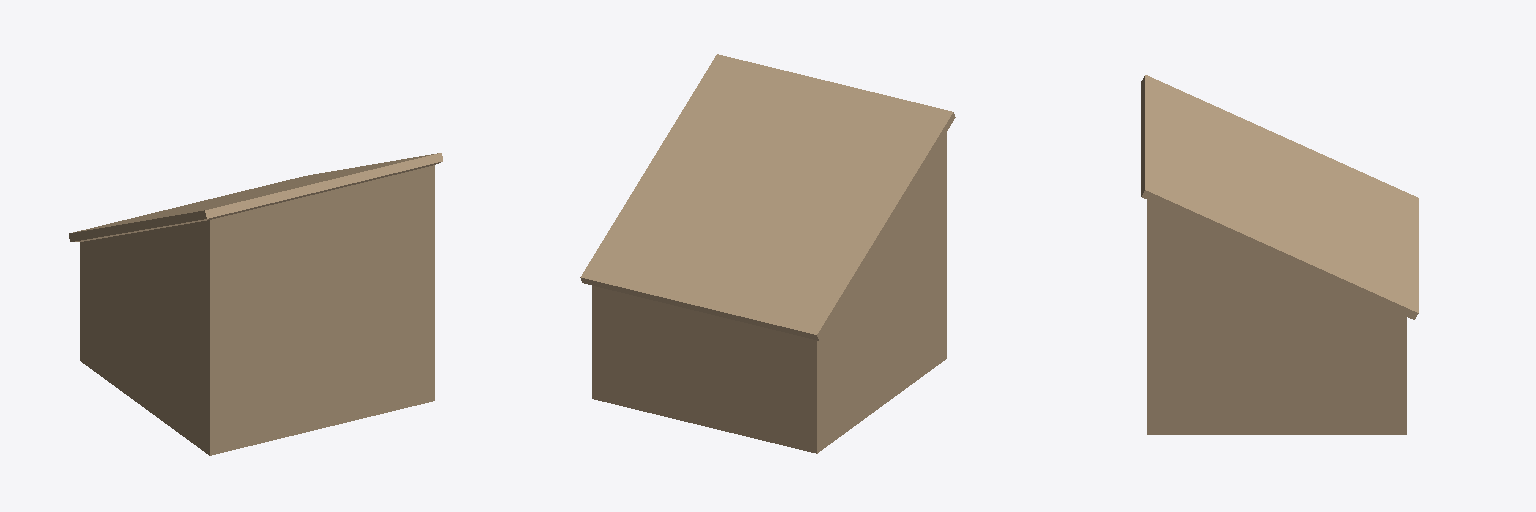
File: buildingO1.obj
3 views of the same model, side by side, from view 1: azimuth 30°, elevation 25°; view 2: azimuth 150°, elevation 25°; view 3: azimuth 270°, elevation 25° (orthographic).
Parts seen in each view (by area): view 1: Cube.012_Cube.007; view 2: Cube.012_Cube.007; view 3: Cube.012_Cube.007.
Boxes of the visible parts, <box> form: Cube.012_Cube.007: <box>69,153,442,455</box>; Cube.012_Cube.007: <box>580,54,955,453</box>; Cube.012_Cube.007: <box>1141,75,1418,434</box>.
Size of the model in its own units: 2.1 by 2.1 by 2.13.